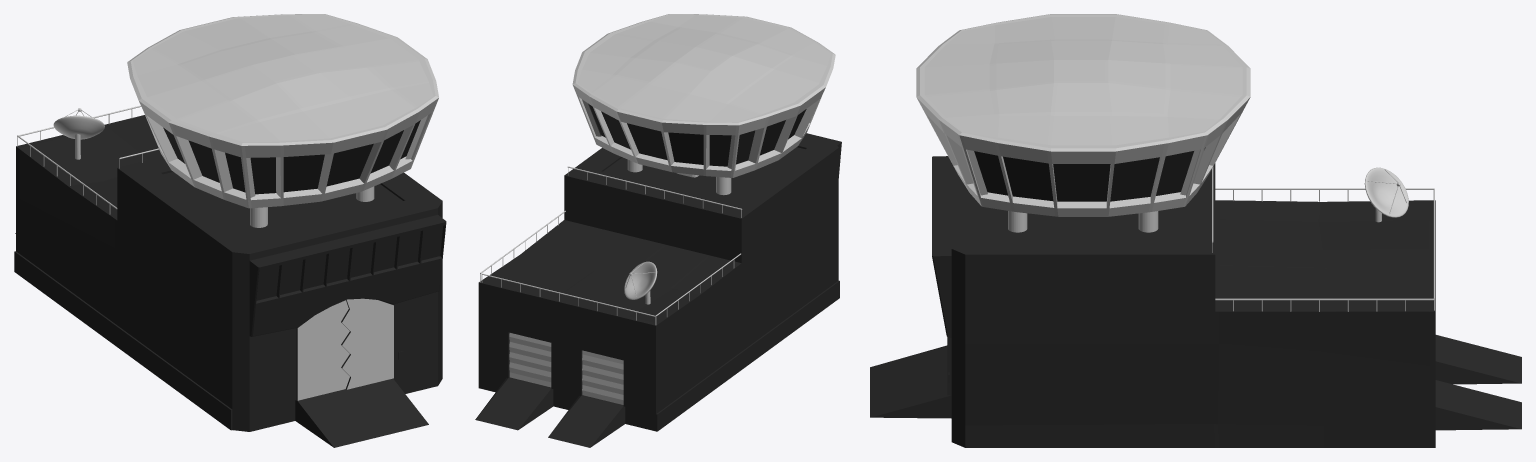
File: PlayerBase.fbx
3 views of the same model, side by side, from view 1: azimuth 30°, elevation 25°; view 2: azimuth 150°, elevation 25°; view 3: azimuth 270°, elevation 25° (orthographic). The views are drawn at different scales.
Visible parts, largest first — view 1: Main_Building_Cube.043, Cylinder.003_Cylinder.016, Stand_Cylinder.027, Railing.003_Cylinder.033; view 2: Main_Building_Cube.043, Cylinder.003_Cylinder.016, Railing.003_Cylinder.033, Stand_Cylinder.027; view 3: Main_Building_Cube.043, Cylinder.003_Cylinder.016, Stand_Cylinder.027, Railing.003_Cylinder.033.
Part boxes in pixels (x1,y1,x2,y2): Main_Building_Cube.043: (14,115,446,447); Cylinder.003_Cylinder.016: (127,14,438,227); Stand_Cylinder.027: (53,108,104,159); Railing.003_Cylinder.033: (17,105,158,214); Main_Building_Cube.043: (475,133,841,447); Cylinder.003_Cylinder.016: (572,14,835,195); Railing.003_Cylinder.033: (480,166,742,325); Stand_Cylinder.027: (624,261,657,304); Main_Building_Cube.043: (870,156,1521,447); Cylinder.003_Cylinder.016: (916,14,1250,232); Stand_Cylinder.027: (1364,167,1408,222); Railing.003_Cylinder.033: (1212,167,1434,311).
Size of the model in its own units: 1022 by 1116 by 2048.
